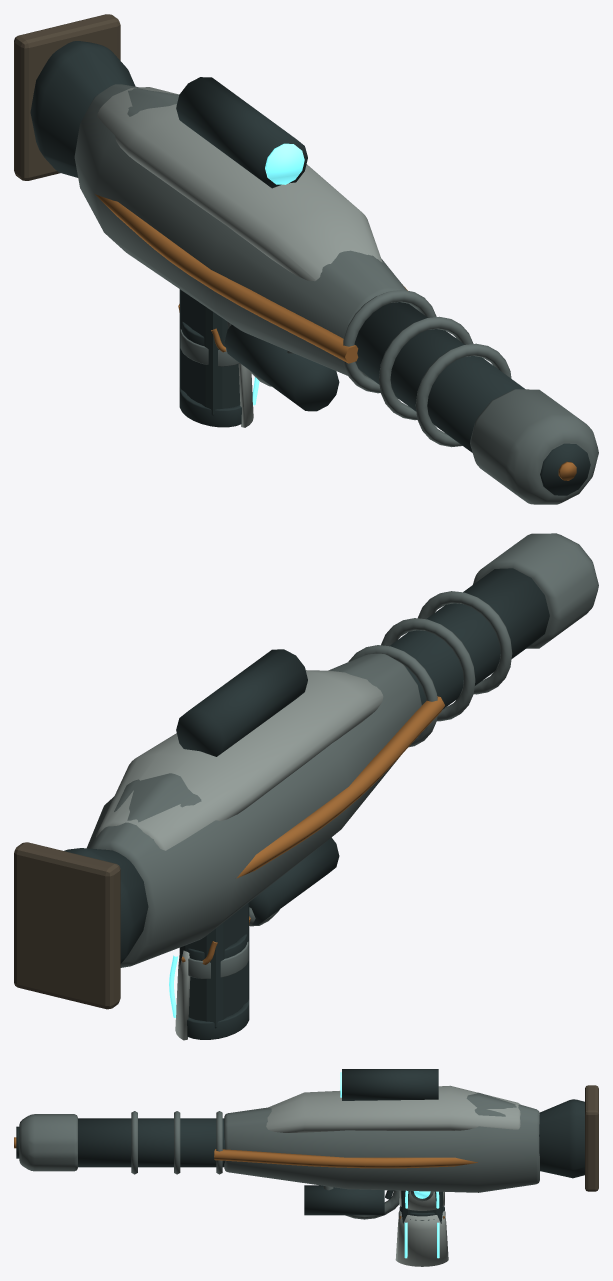
The model's file is gauntlet-189.glb.
3 renders of one model, top to bottom at view 1: azimuth 30°, elevation 25°; view 2: azimuth 150°, elevation 25°; view 3: azimuth 270°, elevation 25°, orthographic. The views are drawn at different scales.
Visible parts, largest first — view 1: weapon-hunter, astral-bracer; view 2: weapon-hunter, astral-bracer; view 3: weapon-hunter, astral-bracer, weapon-astral.
Part boxes in pixels (bbox=[...]): weapon-hunter: bbox=[14, 14, 598, 504]; astral-bracer: bbox=[179, 321, 259, 427]; weapon-hunter: bbox=[14, 533, 598, 1028]; astral-bracer: bbox=[169, 934, 249, 1040]; weapon-hunter: bbox=[14, 1069, 598, 1223]; astral-bracer: bbox=[395, 1206, 448, 1266]; weapon-astral: bbox=[399, 1190, 444, 1219].
Bounding box in the file's own units: 0.2254 × 0.4393 × 1.24.
